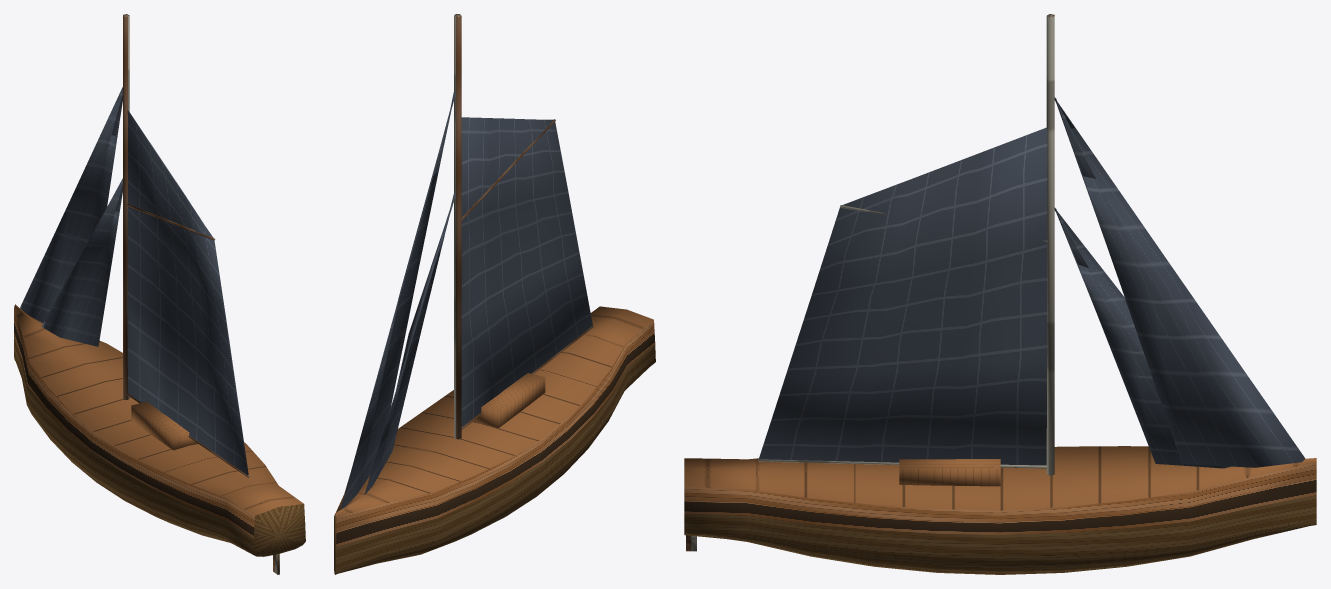
Rendered from SHIP-L_LOD1.fbx.
The picture shows the model from 3 angles, left to right: view 1: azimuth 30°, elevation 25°; view 2: azimuth 150°, elevation 25°; view 3: azimuth 270°, elevation 25°; orthographic projection. The views are drawn at different scales.
Visible parts, largest first — view 1: Sails, Hull, Masts; view 2: Sails, Hull, Masts; view 3: Sails, Hull, Masts.
Part boxes in pixels (x1,y1,x2,y2): Sails: (20,87,248,475); Hull: (14,304,305,556); Masts: (123,14,279,574); Sails: (340,91,592,509); Hull: (334,306,655,574); Masts: (454,14,593,439); Sails: (759,97,1305,468); Hull: (684,446,1316,574); Masts: (686,14,1054,551).
Size of the model in its own units: 4 by 16 by 15.2.
Materials: 3 (3 with a texture image).
